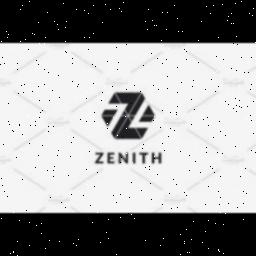e: (108, 152, 116, 166)
h: (152, 152, 164, 164)
i: (132, 152, 138, 166)
n: (118, 151, 130, 165)
t: (140, 152, 148, 166)
z: (94, 150, 104, 166)
